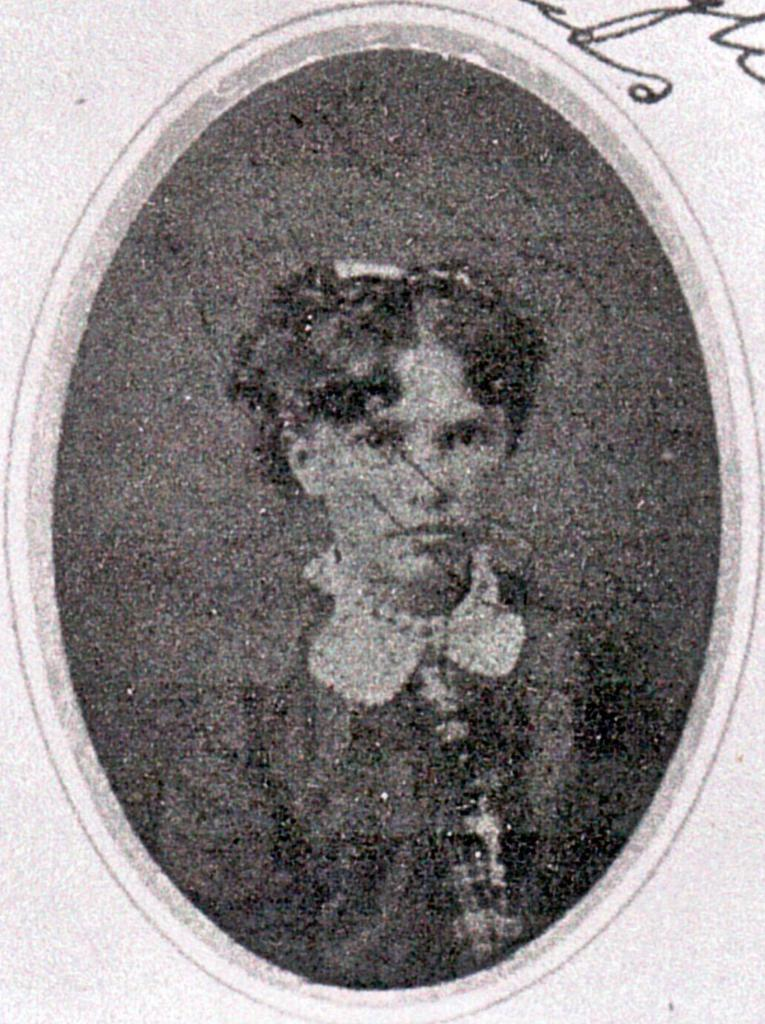Human-face: (309, 323, 507, 590)
